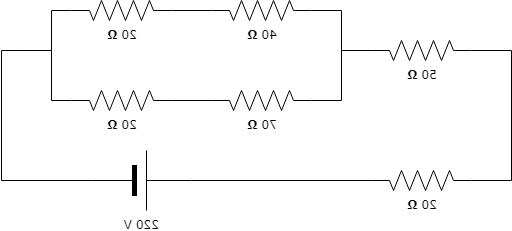resistor: (386, 26, 466, 72), (374, 161, 461, 197), (219, 0, 308, 21), (74, 0, 155, 19)
